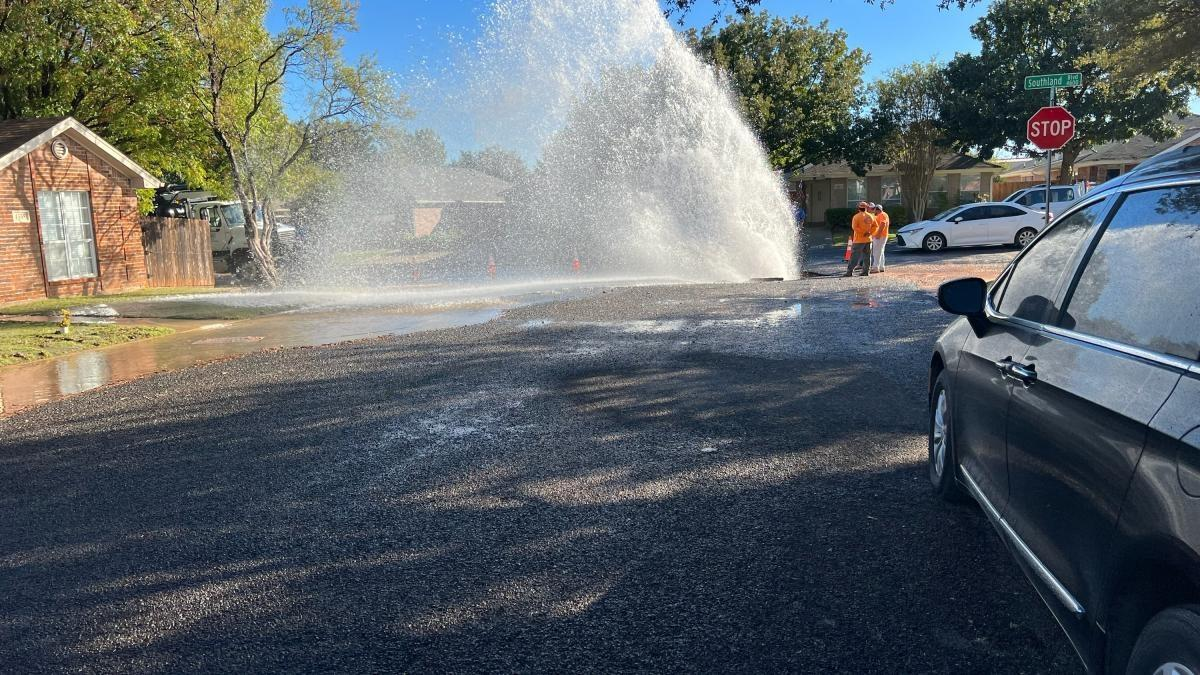pipe burst: (270, 0, 805, 286)
water accumulation: (0, 296, 571, 421)
